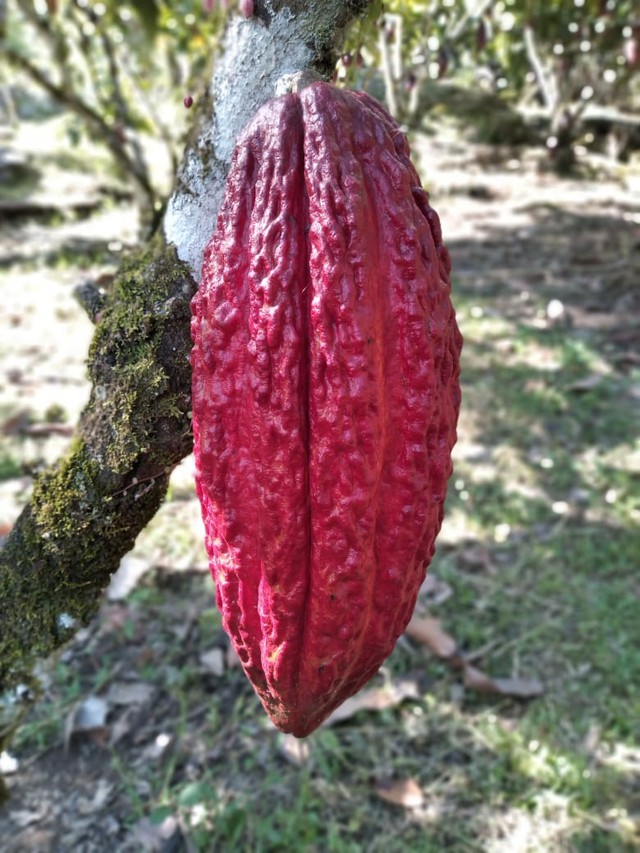Health: (167, 69, 478, 747)
